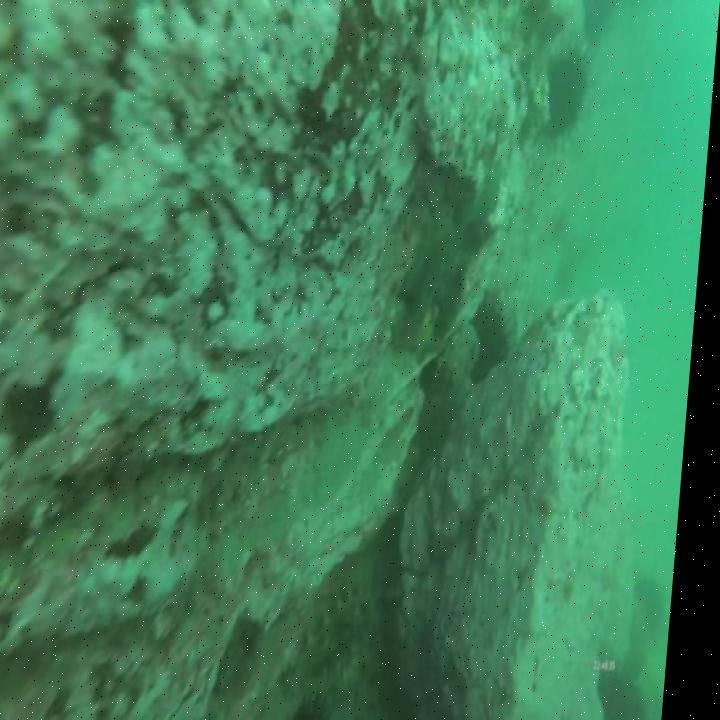echinus: (539, 36, 596, 160), (472, 292, 522, 388), (639, 572, 681, 642), (298, 681, 351, 720)
holothurian: (288, 582, 390, 684)
